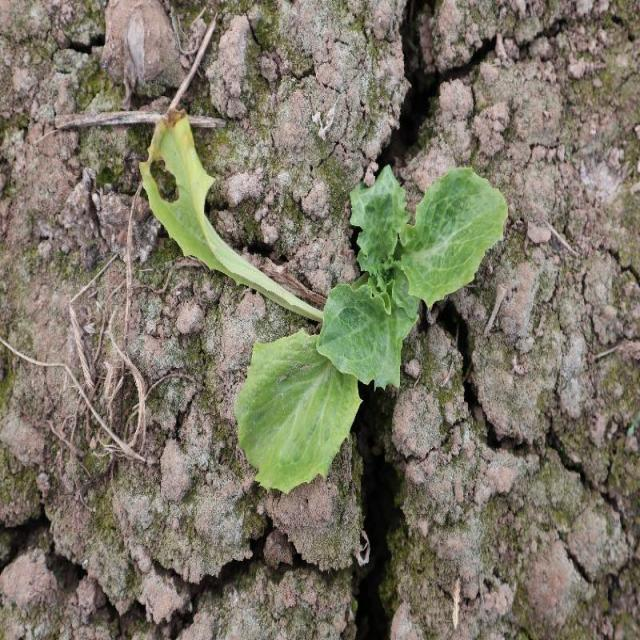crop: (239, 170, 507, 492)
